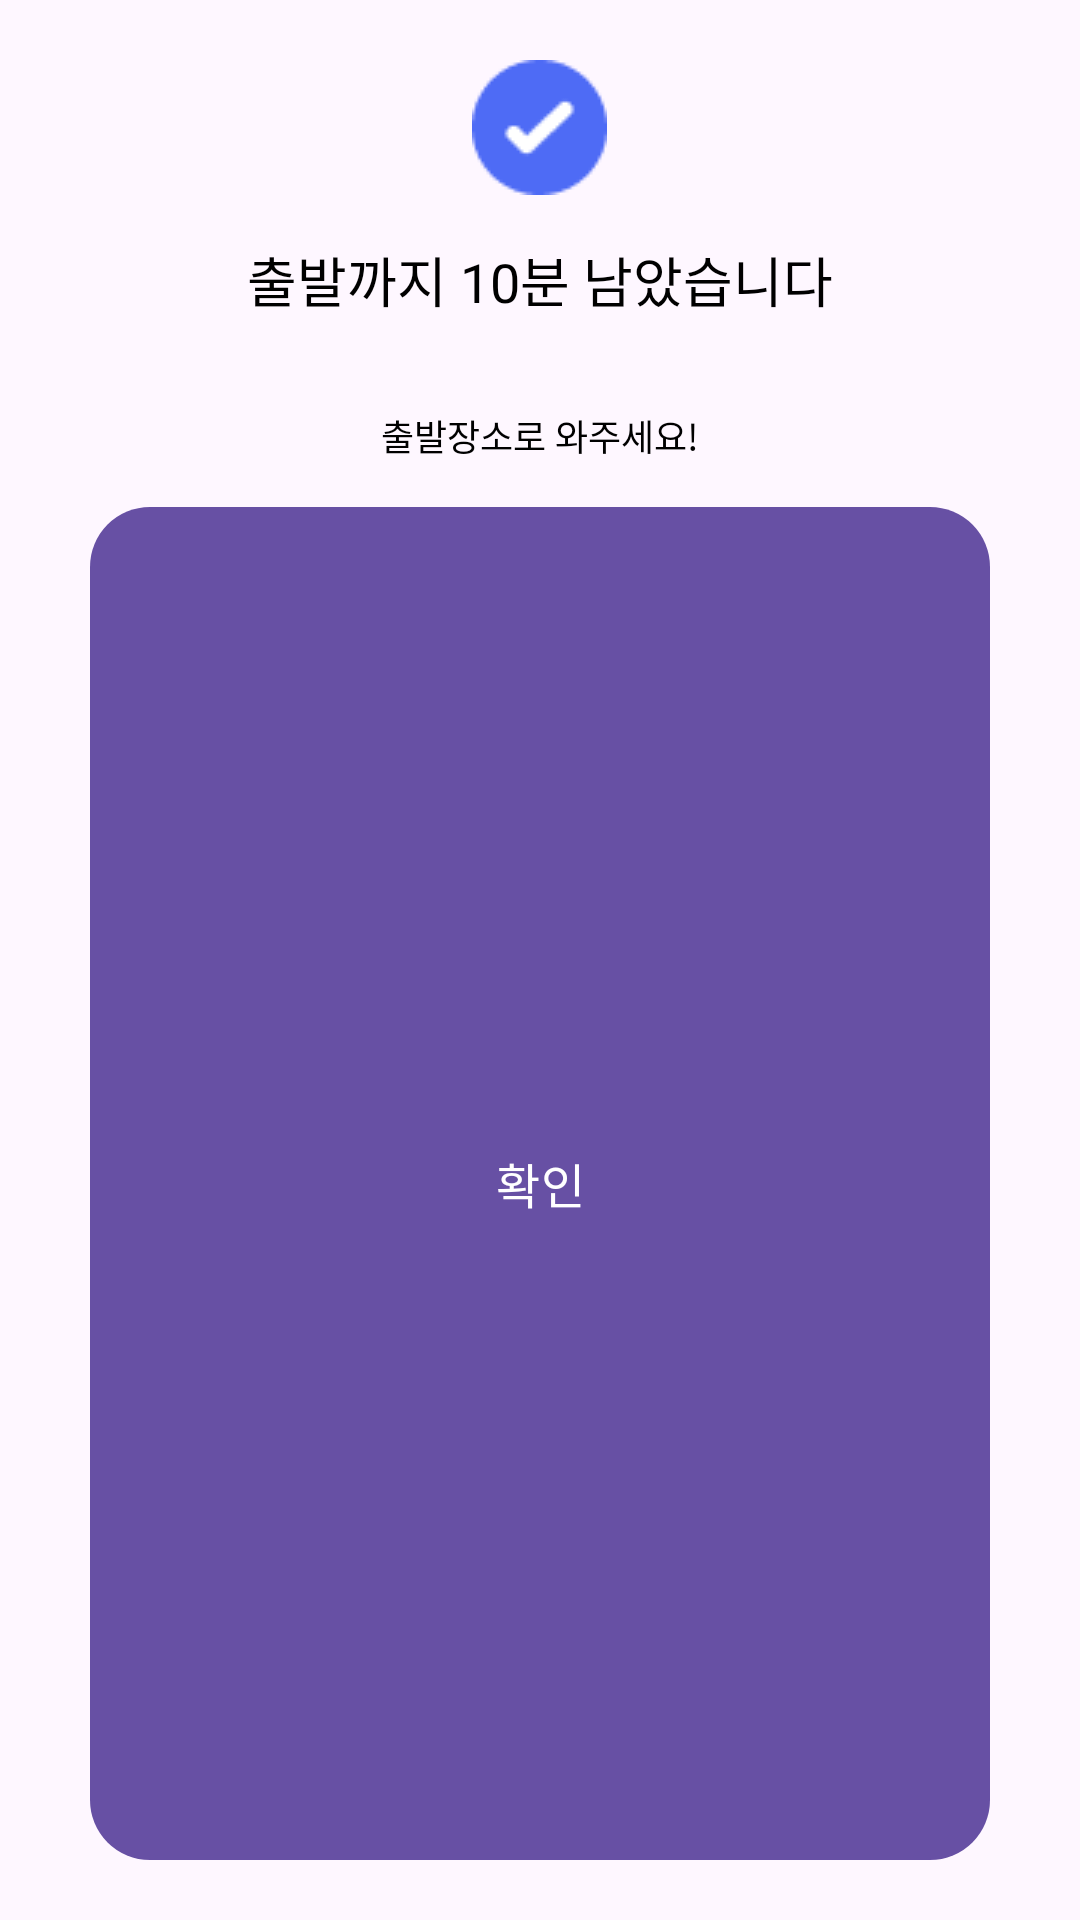

Point at icon controls on the screen. Image size 1080w x 1920h, points as point (x, y).
check: point (539, 127)
